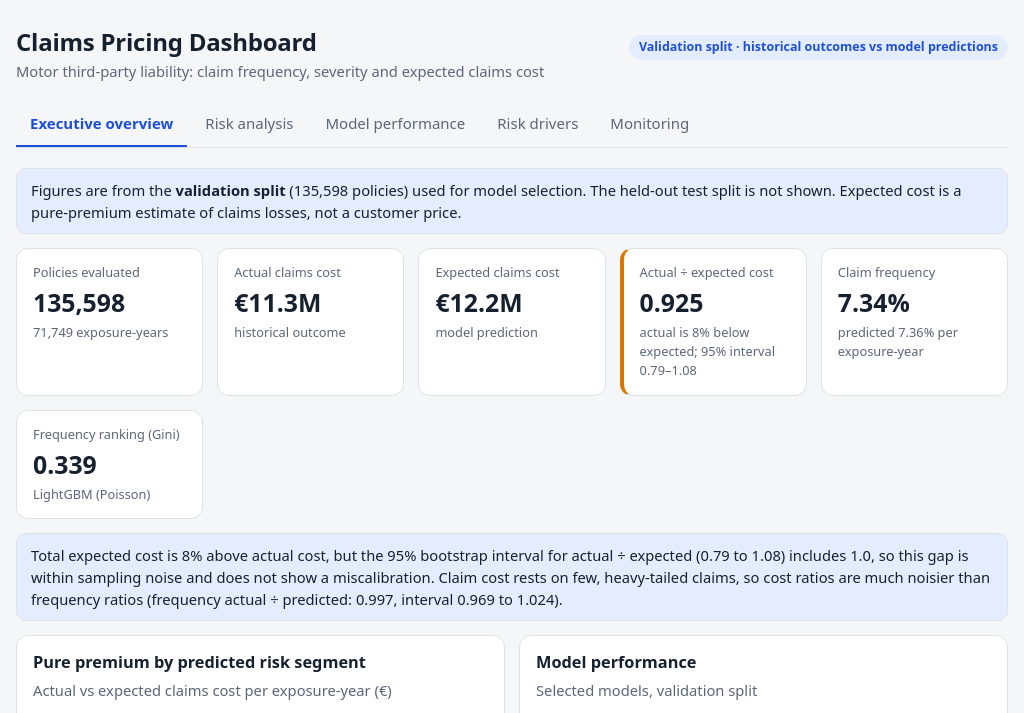
Test: App › switches tabs and shows association-not-causation warning on drivers
Expected: the text "Policies evaluated" is shown, [33, 263, 140, 281]
Click the tab "Risk drivers".
click(538, 124)  # box [483, 102, 592, 147]
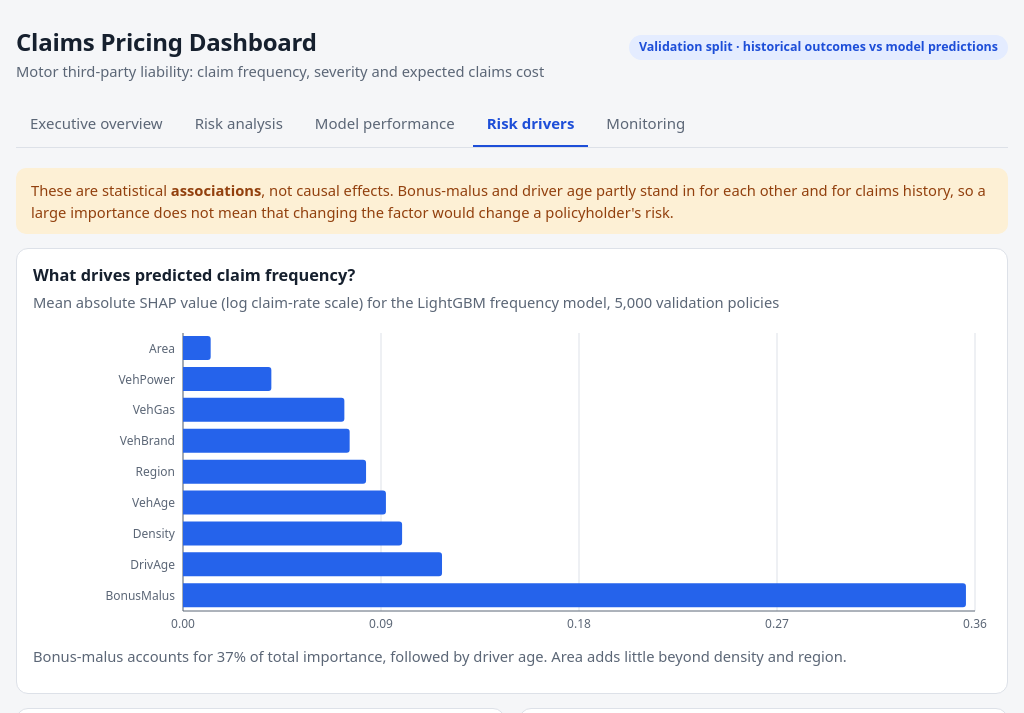
Now the text "not causal effects" is shown, box [31, 180, 986, 222]
Click the tab "Monitoring".
click(646, 124)  # box [592, 102, 699, 147]
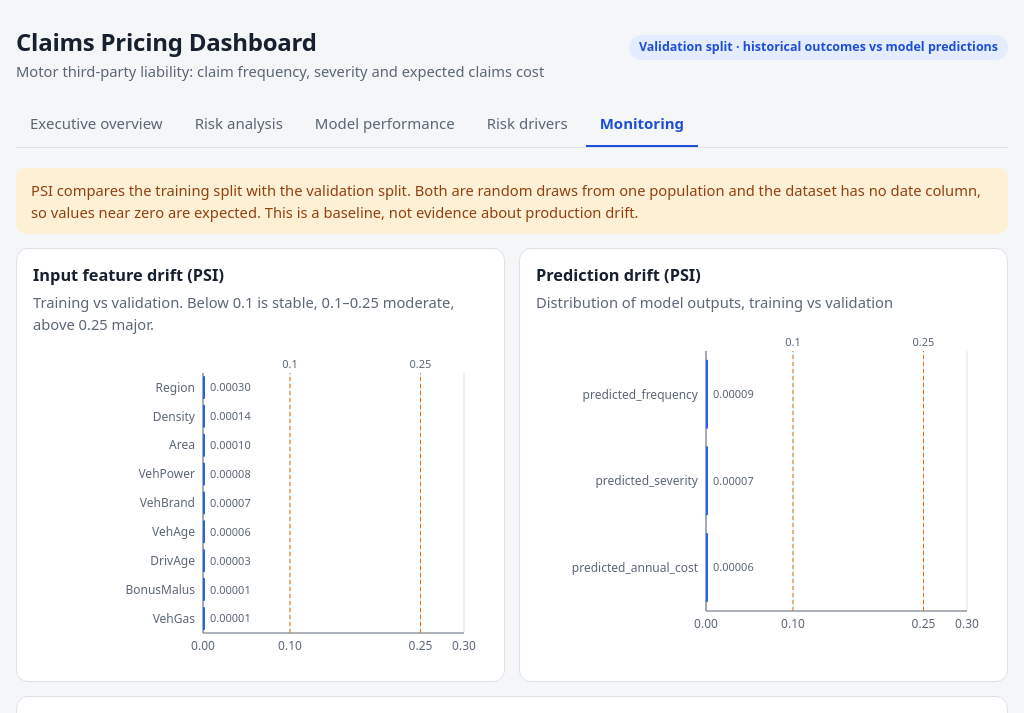
Now the text "baseline, not evidence about production drift" is shown, box [31, 180, 981, 222]
